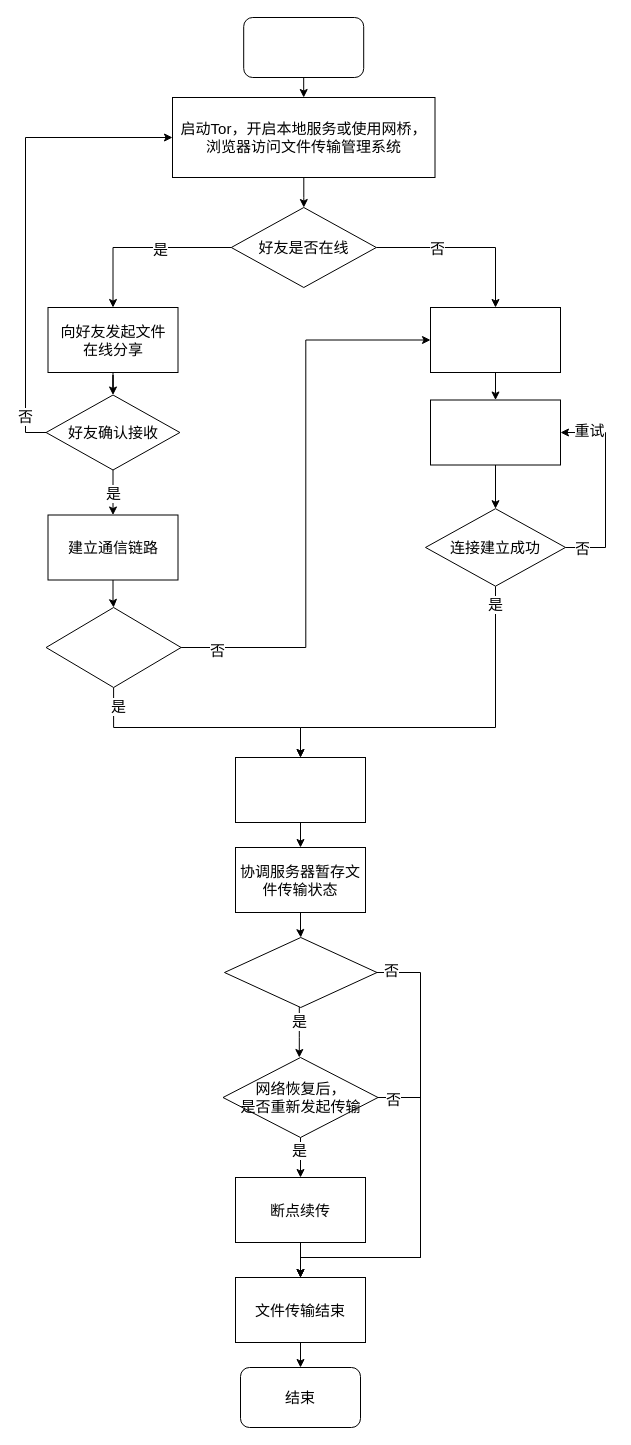
The diagram is 631 pixels wide and 1445 high, and some of its shapes have lost their labels. Here are the shapes that lost their labels. From the top down, the centre of each, then its label:
At point (303, 47): "开始".
At point (495, 339): "发起离线文件分享".
At point (495, 432): "与服务器建立连接".
At point (113, 647): "链路建立是否成功".
At point (300, 789): "文件分片传输".
At point (300, 972): "网络是否中断".
